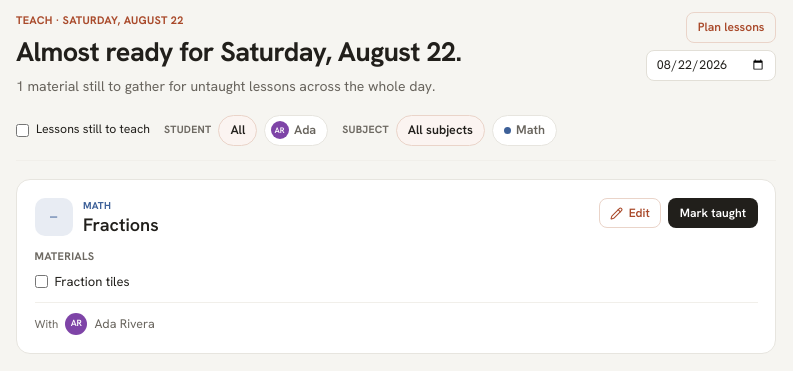
Scenario: TeachView › clears active filters when the selected date changes
Click the button "AR Ada": coordinates (296, 130) [264,114,328,146]
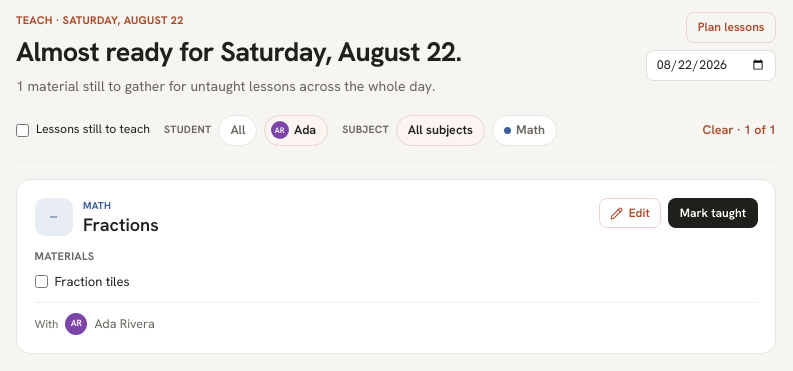
Check: the button "Clear · 1 of 1" is shown, box [702,121,776,140]
